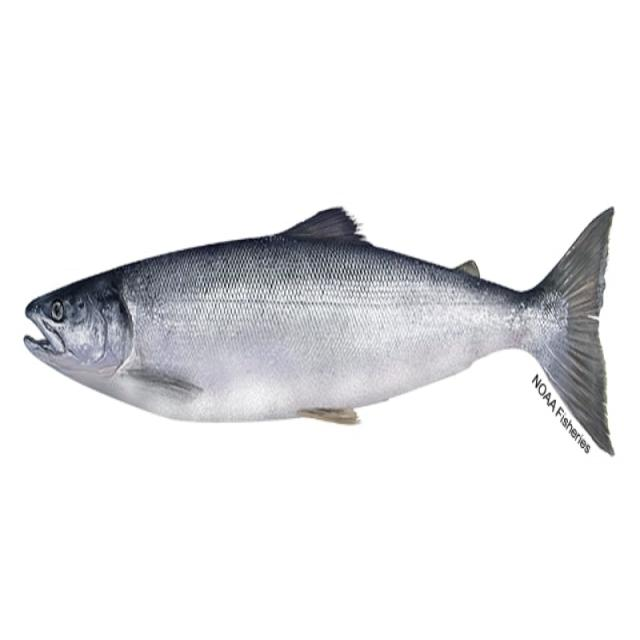salmon: (5, 189, 628, 481)
